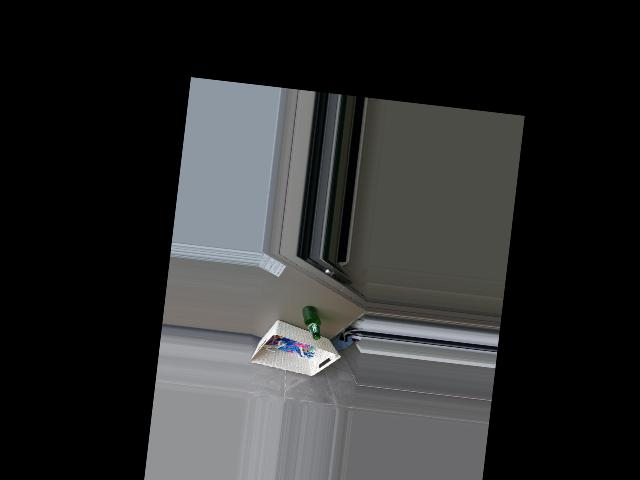beer: (299, 304, 324, 339)
